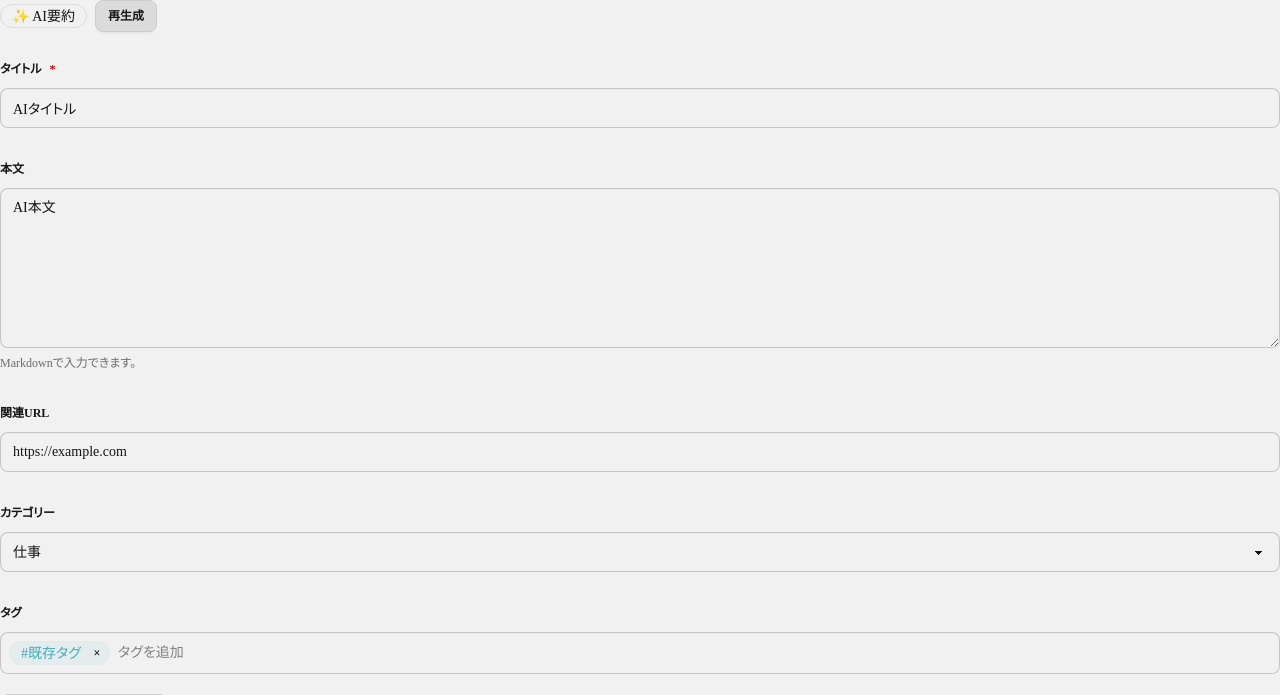
Test: メモ編集フォーム › 再生成失敗時は旧本文を保持して再操作できる
Click the button "再生成": (126, 16) 95,0 -> 157,32
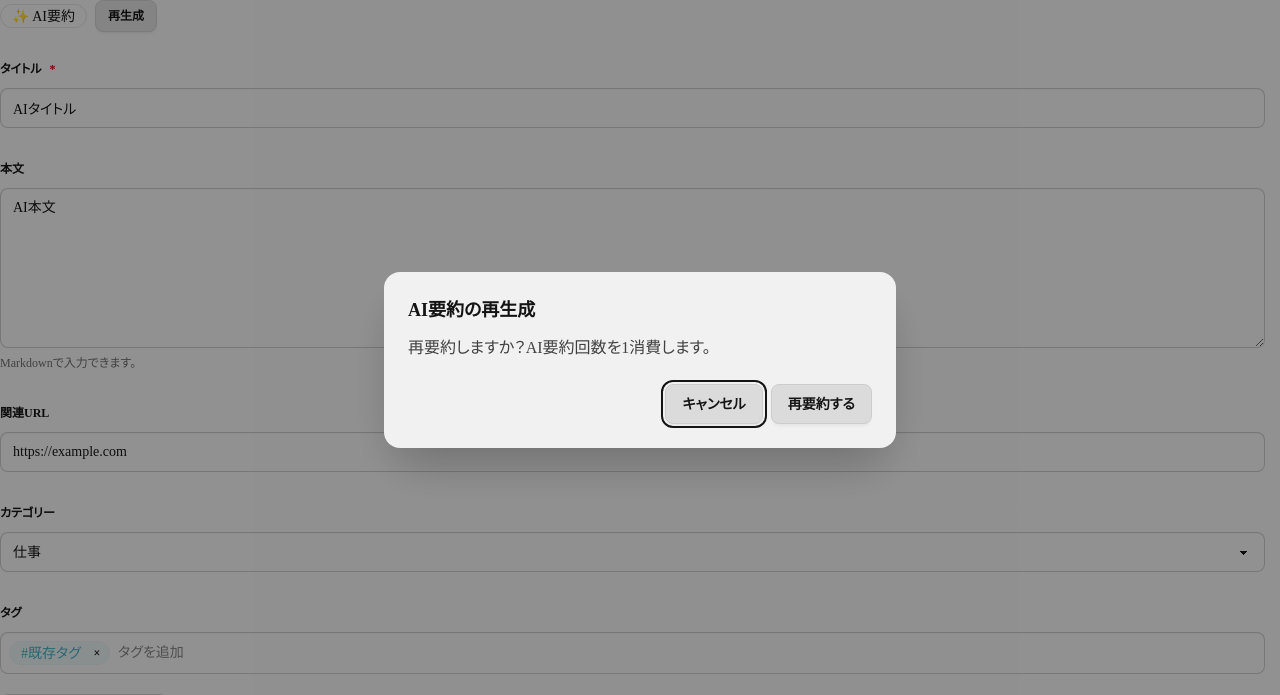
Click the button "再要約する": (821, 404) 771,384 -> 872,424
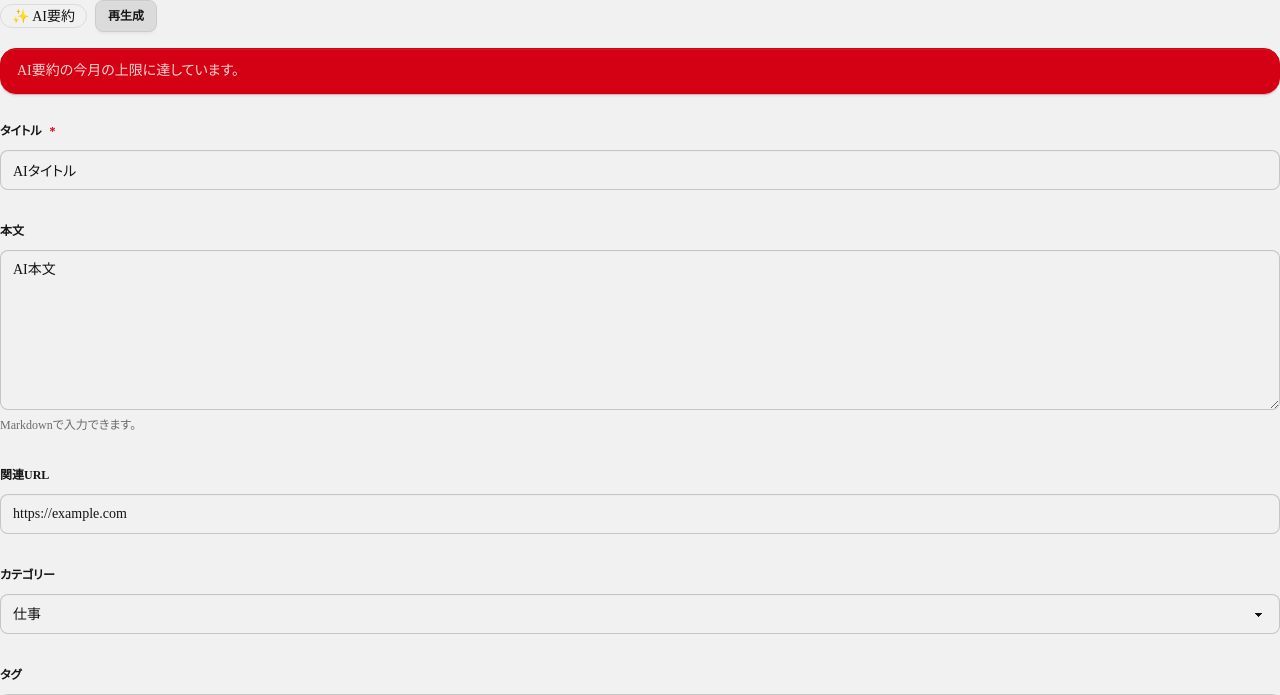
Check: the text box labelled "本文" holds "AI本文", box 0,250 -> 1279,410
Check: the message reads "AI要約の今月の上限に達しています。", box 17,63 -> 239,78
